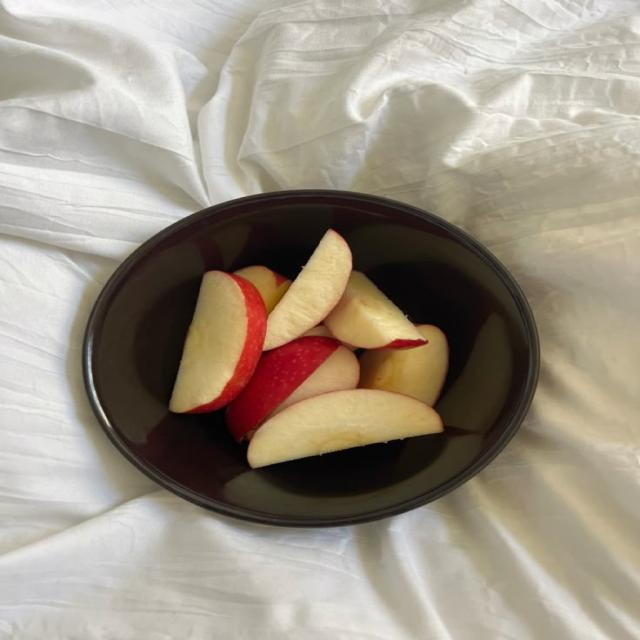apple: (247, 389, 442, 468), (226, 337, 359, 441), (170, 271, 266, 412), (265, 229, 352, 350), (325, 271, 426, 349), (359, 325, 449, 406), (270, 345, 359, 417), (235, 266, 291, 313), (304, 325, 335, 339), (304, 325, 333, 337)
